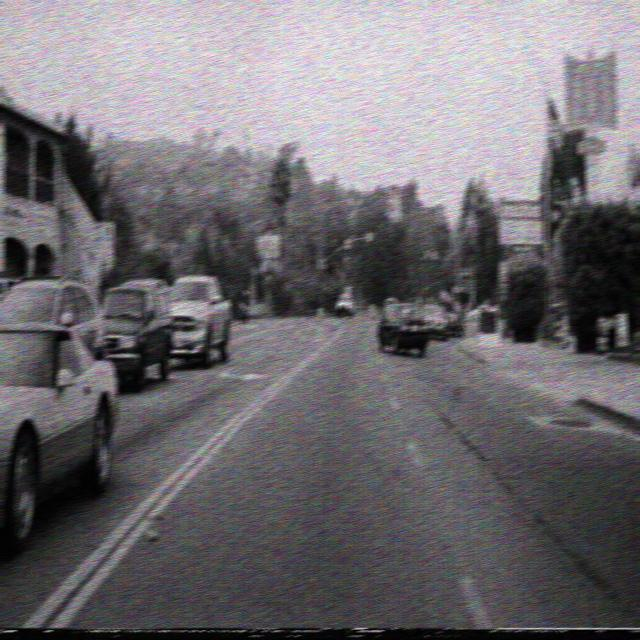speedLimit35: (498, 260, 508, 283)
